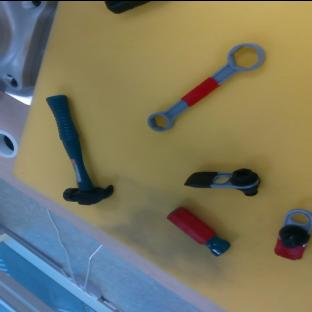part_1_bad: (183, 163, 261, 196)
part_2_bad: (105, 0, 150, 13)
part_2_good: (165, 201, 231, 259)
part_3_good: (139, 34, 269, 137)
